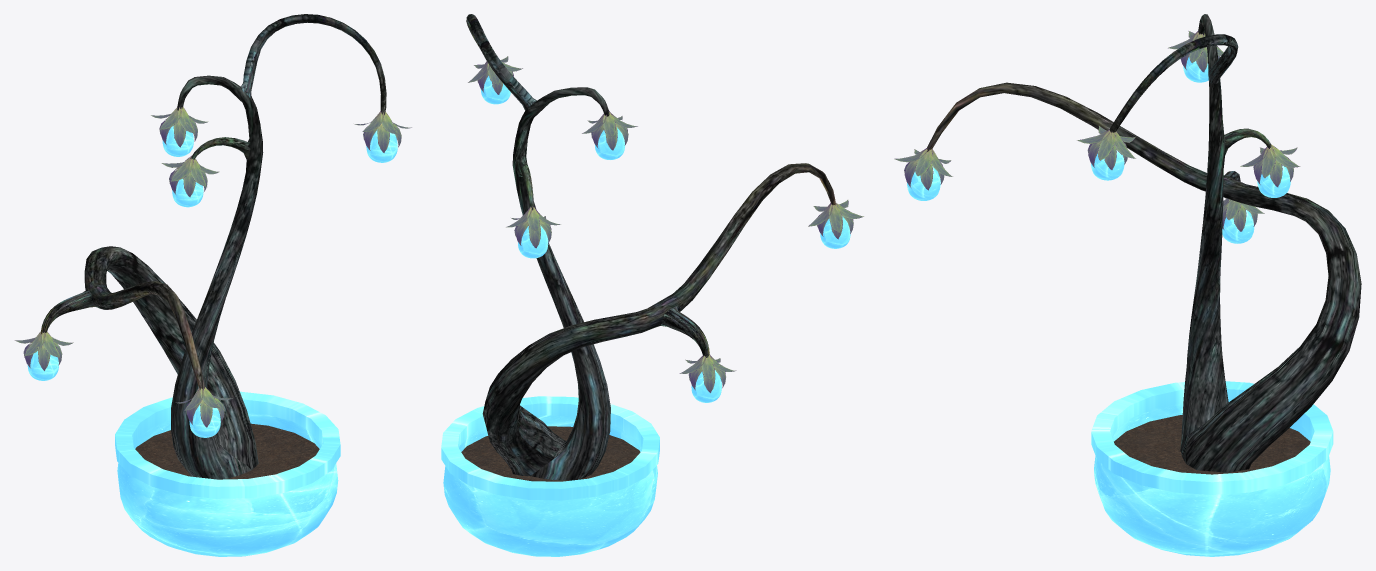
File: alien_plant.glb
The picture shows the model from 3 angles, left to right: view 1: azimuth 30°, elevation 25°; view 2: azimuth 150°, elevation 25°; view 3: azimuth 270°, elevation 25°; orthographic projection. The views are drawn at different scales.
Parts seen in each view (by area): view 1: trunk, pot, dirt, egg2, egg5, egg1, egg4, egg3; view 2: trunk, pot, dirt, egg3, egg1, egg2, egg4; view 3: trunk, pot, dirt, egg2, egg1, egg3, egg5.
Part boxes in pixels (bbox=[...]): trunk: bbox=[41, 14, 386, 479]; pot: bbox=[115, 391, 340, 556]; dirt: bbox=[135, 423, 319, 479]; egg2: bbox=[189, 404, 220, 437]; egg5: bbox=[366, 129, 397, 162]; egg1: bbox=[27, 351, 58, 380]; egg4: bbox=[162, 125, 193, 156]; egg3: bbox=[172, 179, 203, 207]; trunk: bbox=[466, 14, 835, 480]; pot: bbox=[441, 396, 659, 556]; dirt: bbox=[461, 426, 640, 481]; egg3: bbox=[518, 225, 548, 258]; egg1: bbox=[691, 370, 721, 402]; egg2: bbox=[820, 216, 850, 248]; egg4: bbox=[594, 127, 625, 159]; trunk: bbox=[927, 14, 1361, 472]; pot: bbox=[1091, 381, 1333, 556]; dirt: bbox=[1114, 415, 1310, 474]; egg2: bbox=[907, 166, 940, 200]; egg1: bbox=[1222, 210, 1254, 243]; egg3: bbox=[1257, 165, 1290, 197]; egg5: bbox=[1091, 150, 1124, 180].
Size of the model in its own units: 9.36 by 13.79 by 10.79.
Materials: 4 (4 with a texture image).
